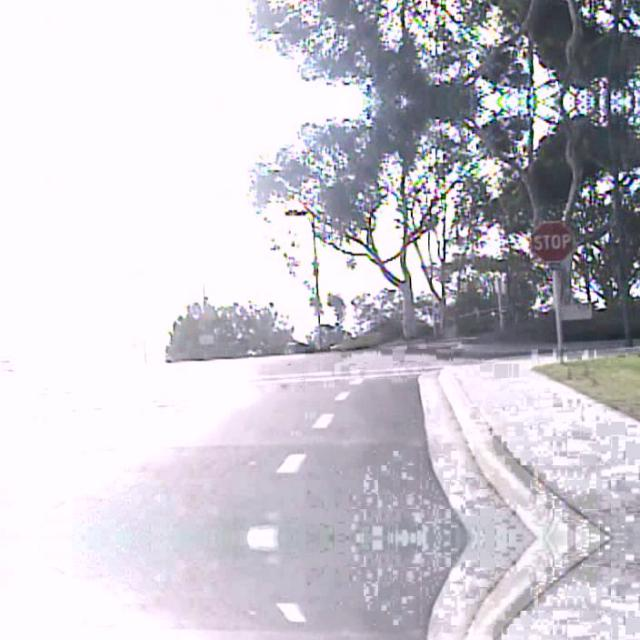stop: (530, 220, 572, 260)
